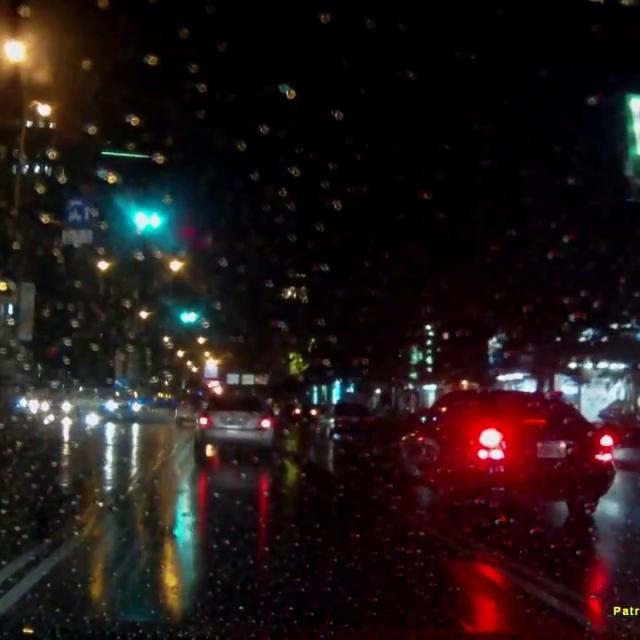Car: (359, 388, 615, 515), (192, 390, 281, 463), (78, 379, 144, 421), (173, 382, 214, 432), (317, 400, 375, 432)
